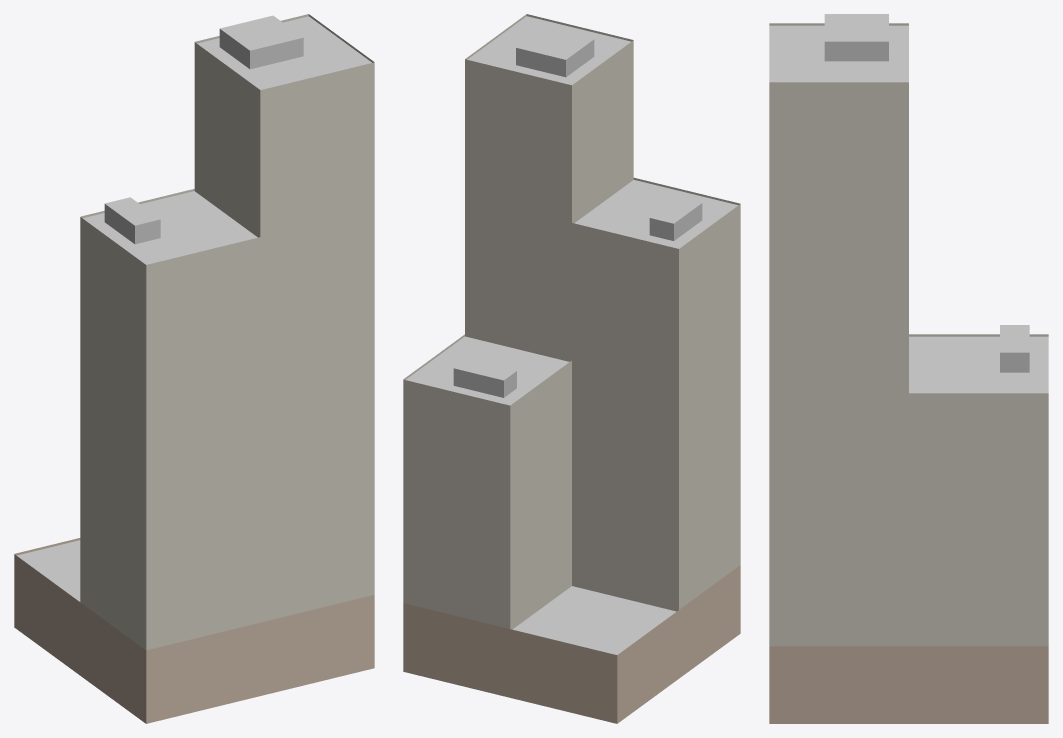
3 views of the same model, side by side, from view 1: azimuth 30°, elevation 25°; view 2: azimuth 150°, elevation 25°; view 3: azimuth 270°, elevation 25° (orthographic). The views are drawn at different scales.
Parts seen in each view (by area): view 1: Object_8, Object_9, Object_5, Object_4, Object_3, Object_7, Object_2; view 2: Object_8, Object_9, Object_7, Object_5, Object_6, Object_4, Object_3, Object_1, Object_2; view 3: Object_8, Object_9, Object_6, Object_4, Object_3, Object_1.
Part boxes in pixels (x1,y1,x2,y2): Object_8: (80,14,374,650); Object_9: (14,538,374,723); Object_5: (83,191,257,264); Object_4: (197,16,371,89); Object_3: (219,15,303,69); Object_7: (17,540,80,601); Object_2: (104,197,160,244); Object_8: (403,14,740,629); Object_9: (403,565,740,723); Object_7: (513,586,676,654); Object_5: (574,180,737,248); Object_6: (406,336,569,405); Object_4: (467,16,630,85); Object_3: (516,27,594,77); Object_1: (453,359,516,397); Object_2: (649,197,702,240); Object_8: (769,23,1048,646); Object_9: (769,646,1048,723); Object_6: (909,336,1048,393); Object_4: (769,25,908,82); Object_3: (824,14,888,61); Object_1: (1000,325,1029,372).
Bounding box in the file's own units: 1283 × 1283 × 3336.
